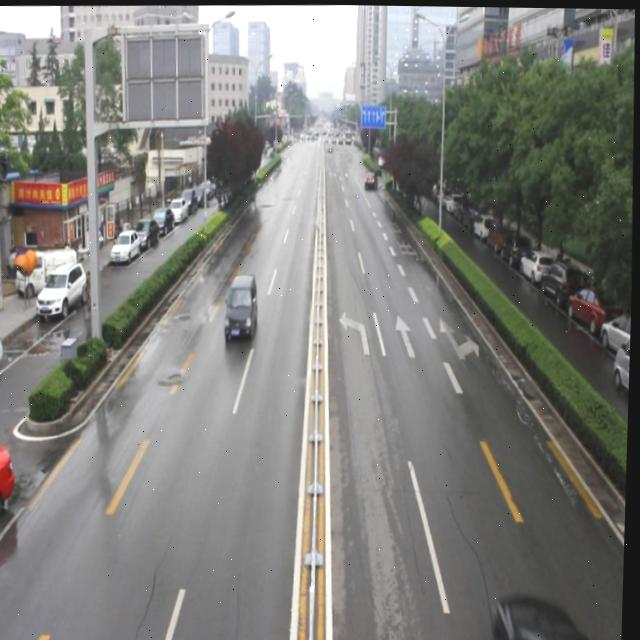car: (495, 591, 596, 640), (0, 439, 21, 526), (364, 169, 378, 187)
truck: (223, 272, 260, 343)
